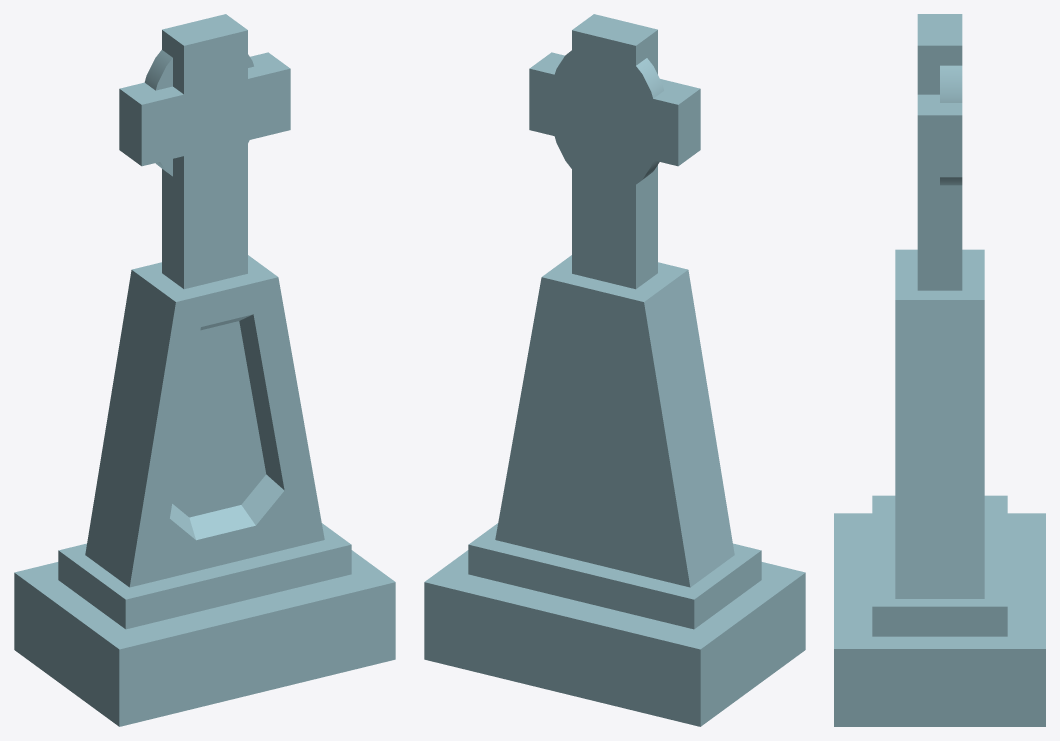
The model's file is gravestoneCross.obj.
3 renders of one model, left to right at view 1: azimuth 30°, elevation 25°; view 2: azimuth 150°, elevation 25°; view 3: azimuth 270°, elevation 25°, orthographic.
Visible parts, largest first — view 1: gravestoneCross; view 2: gravestoneCross; view 3: gravestoneCross.
Boxes of the visible parts, bbox=[...] form: gravestoneCross: bbox=[14, 14, 395, 726]; gravestoneCross: bbox=[424, 14, 805, 726]; gravestoneCross: bbox=[834, 14, 1045, 726].
Size of the model in its own units: 0.4415 by 0.9543 by 0.2913.
